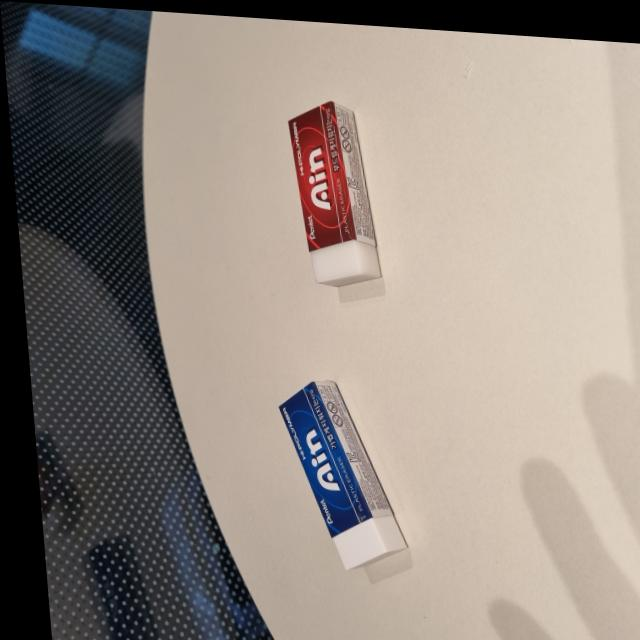blue: (264, 367, 403, 570)
red: (279, 92, 378, 290)
